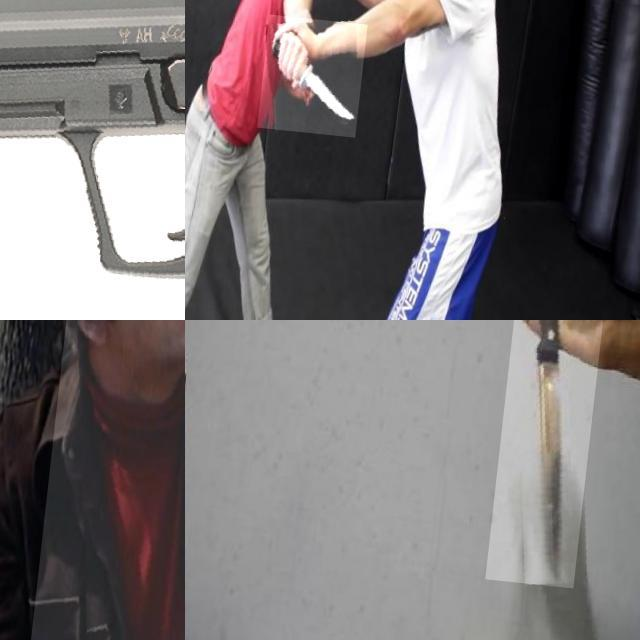-: (496, 320, 617, 578), (266, 10, 372, 131)
gun-knife-thesis - v11 Yolov5 augmented: (0, 0, 185, 320), (39, 320, 185, 640)
